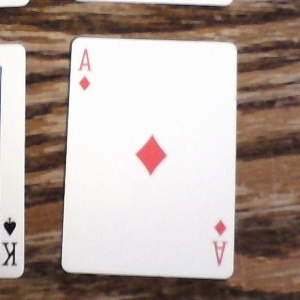card: (63, 36, 236, 278)
